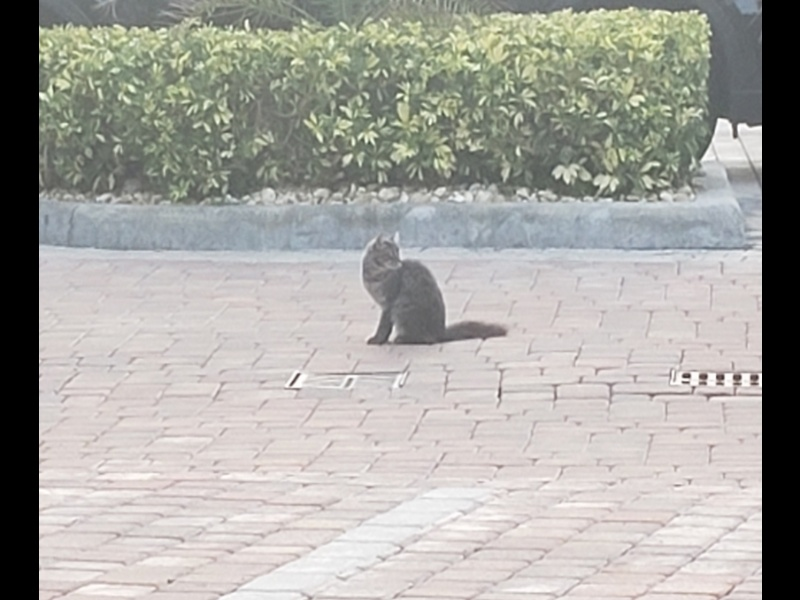cat: (355, 233, 515, 350)
